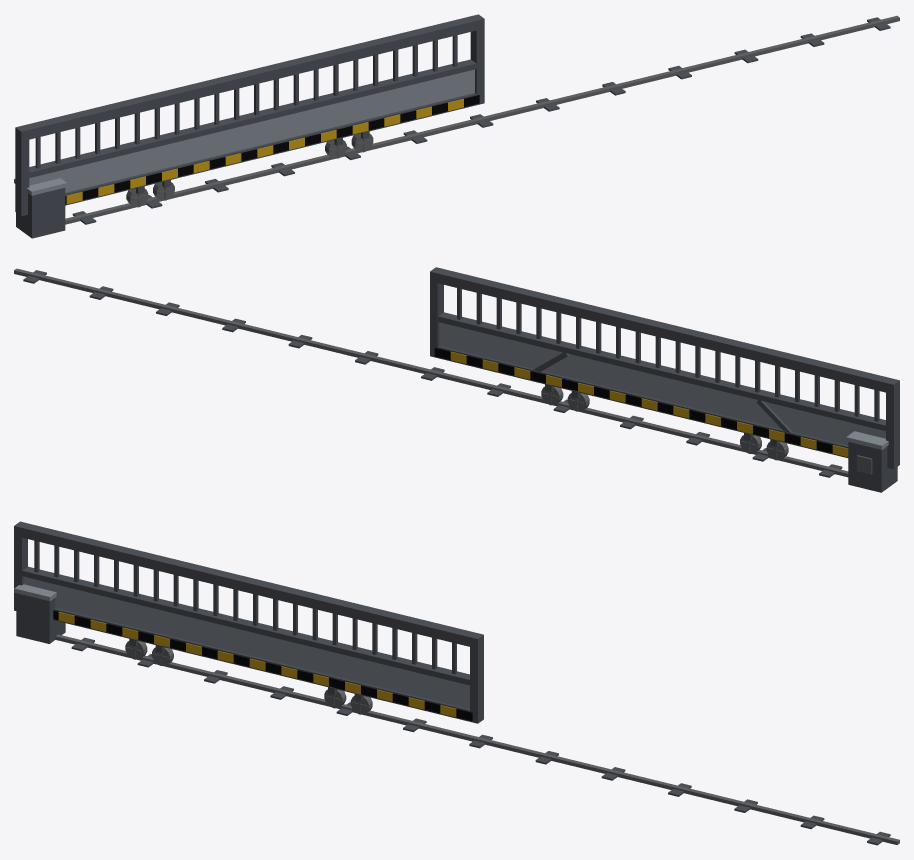
The model's file is poort.glb.
3 views of the same model, one above another, from view 1: azimuth 30°, elevation 25°; view 2: azimuth 150°, elevation 25°; view 3: azimuth 330°, elevation 25° (orthographic).
Visible parts, largest first — view 1: Poort_donker, Poort_staal, Vast_metaal, Vast_donker, Poort_zwart, Poort_geel; view 2: Poort_donker, Poort_staal, Vast_metaal, Vast_donker, Poort_zwart, Poort_geel, Vast_staal; view 3: Poort_donker, Poort_staal, Vast_metaal, Vast_donker, Poort_zwart, Poort_geel.
Part boxes in pixels (bbox=[...]): Poort_donker: bbox=[15, 14, 484, 216]; Poort_staal: bbox=[29, 69, 474, 192]; Vast_metaal: bbox=[65, 15, 899, 224]; Vast_donker: bbox=[16, 17, 890, 238]; Poort_zwart: bbox=[65, 95, 479, 204]; Poort_geel: bbox=[66, 99, 463, 203]; Poort_donker: bbox=[430, 267, 899, 469]; Poort_staal: bbox=[439, 322, 885, 445]; Vast_metaal: bbox=[14, 268, 872, 477]; Vast_donker: bbox=[23, 270, 897, 492]; Poort_zwart: bbox=[434, 348, 832, 453]; Poort_geel: bbox=[450, 351, 848, 456]; Vast_staal: bbox=[846, 431, 888, 449]; Poort_donker: bbox=[14, 521, 483, 723]; Poort_staal: bbox=[23, 577, 469, 708]; Vast_metaal: bbox=[55, 634, 899, 844]; Vast_donker: bbox=[16, 593, 890, 845]; Poort_zwart: bbox=[53, 610, 472, 721]; Poort_geel: bbox=[58, 612, 456, 717].
Size of the model in its own units: 13.3 by 1.52 by 0.465.
